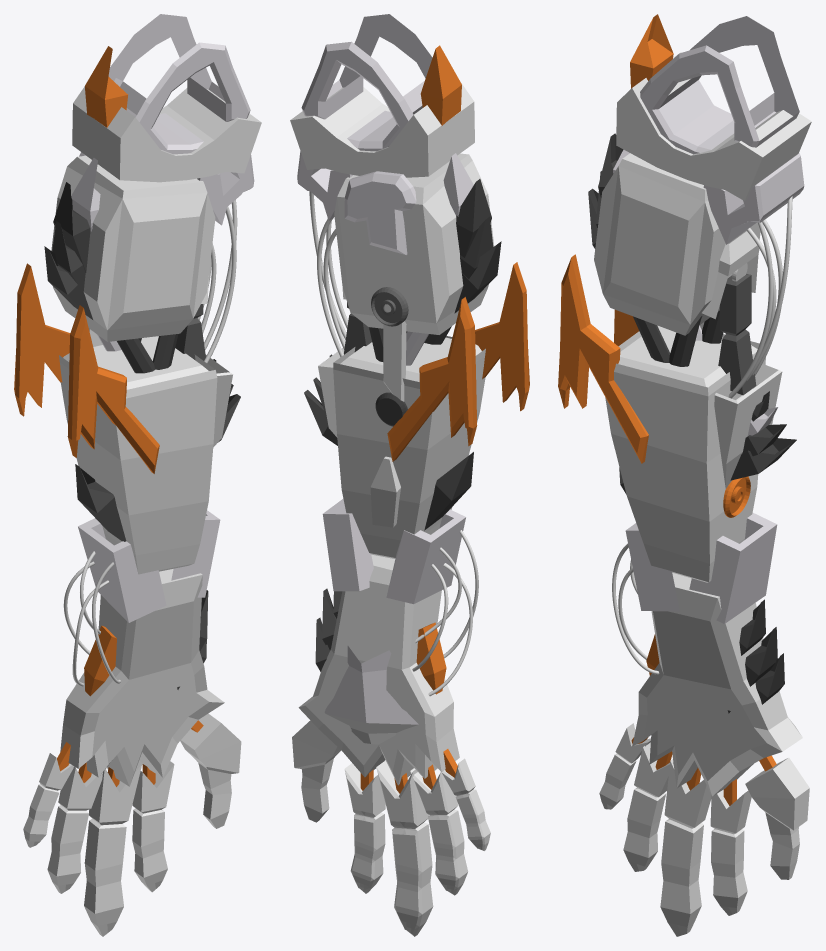
3 views of the same model, side by side, from view 1: azimuth 30°, elevation 25°; view 2: azimuth 150°, elevation 25°; view 3: azimuth 330°, elevation 25° (orthographic). The views are drawn at different scales.
Visible parts, largest first — view 1: fingers; view 2: fingers; view 3: fingers.
Boxes of the visible parts, x1,y1,x2,y2 form: fingers: (14, 14, 261, 936); fingers: (290, 14, 529, 936); fingers: (558, 14, 811, 936).
Bounding box in the file's own units: 1.92 × 8.26 × 1.07.
